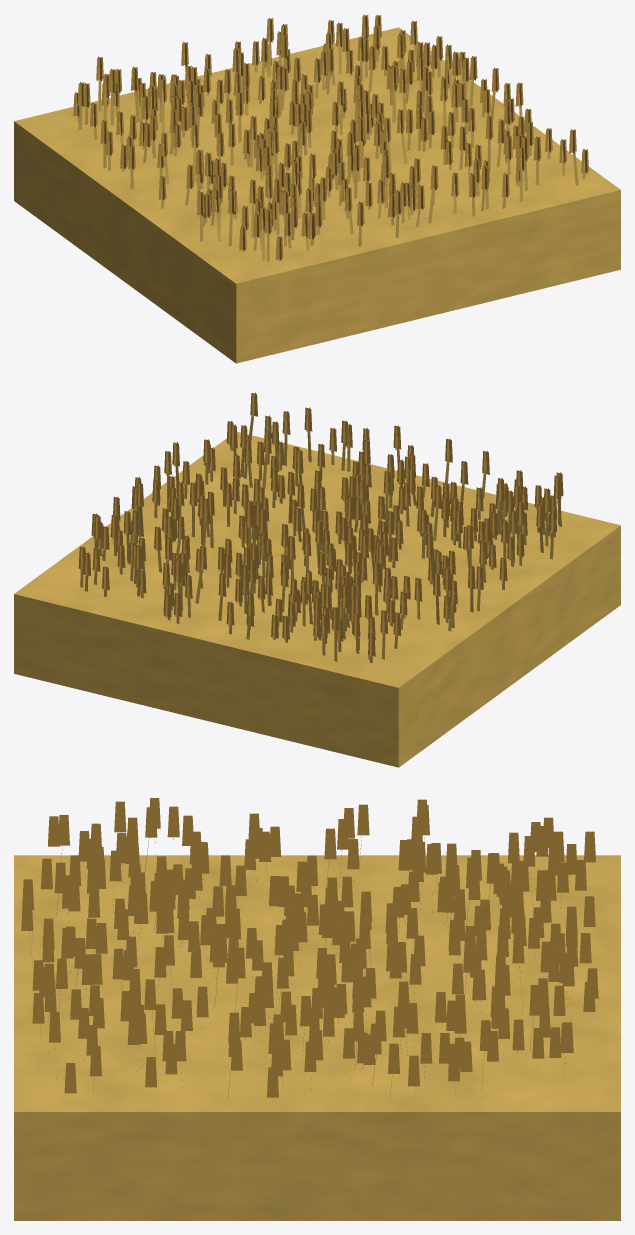
Rendered from pv_psenice_zrala.glb.
3 views of the same model, one above another, from view 1: azimuth 30°, elevation 25°; view 2: azimuth 150°, elevation 25°; view 3: azimuth 270°, elevation 25° (orthographic). The views are drawn at different scales.
Visible parts, largest first — view 1: dum; view 2: dum; view 3: dum.
Boxes of the visible parts, bbox=[...] form: dum: bbox=[14, 14, 620, 363]; dum: bbox=[14, 392, 620, 767]; dum: bbox=[14, 798, 620, 1220].
Size of the model in its own units: 2.93 by 1 by 2.93.
1 material, 1 textured.
